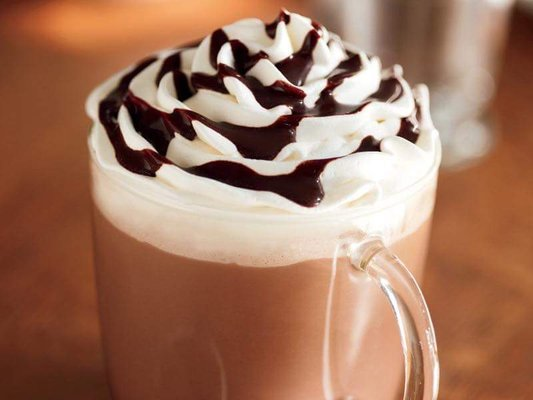curry: (1, 1, 497, 400)
sushi: (85, 3, 451, 399)
